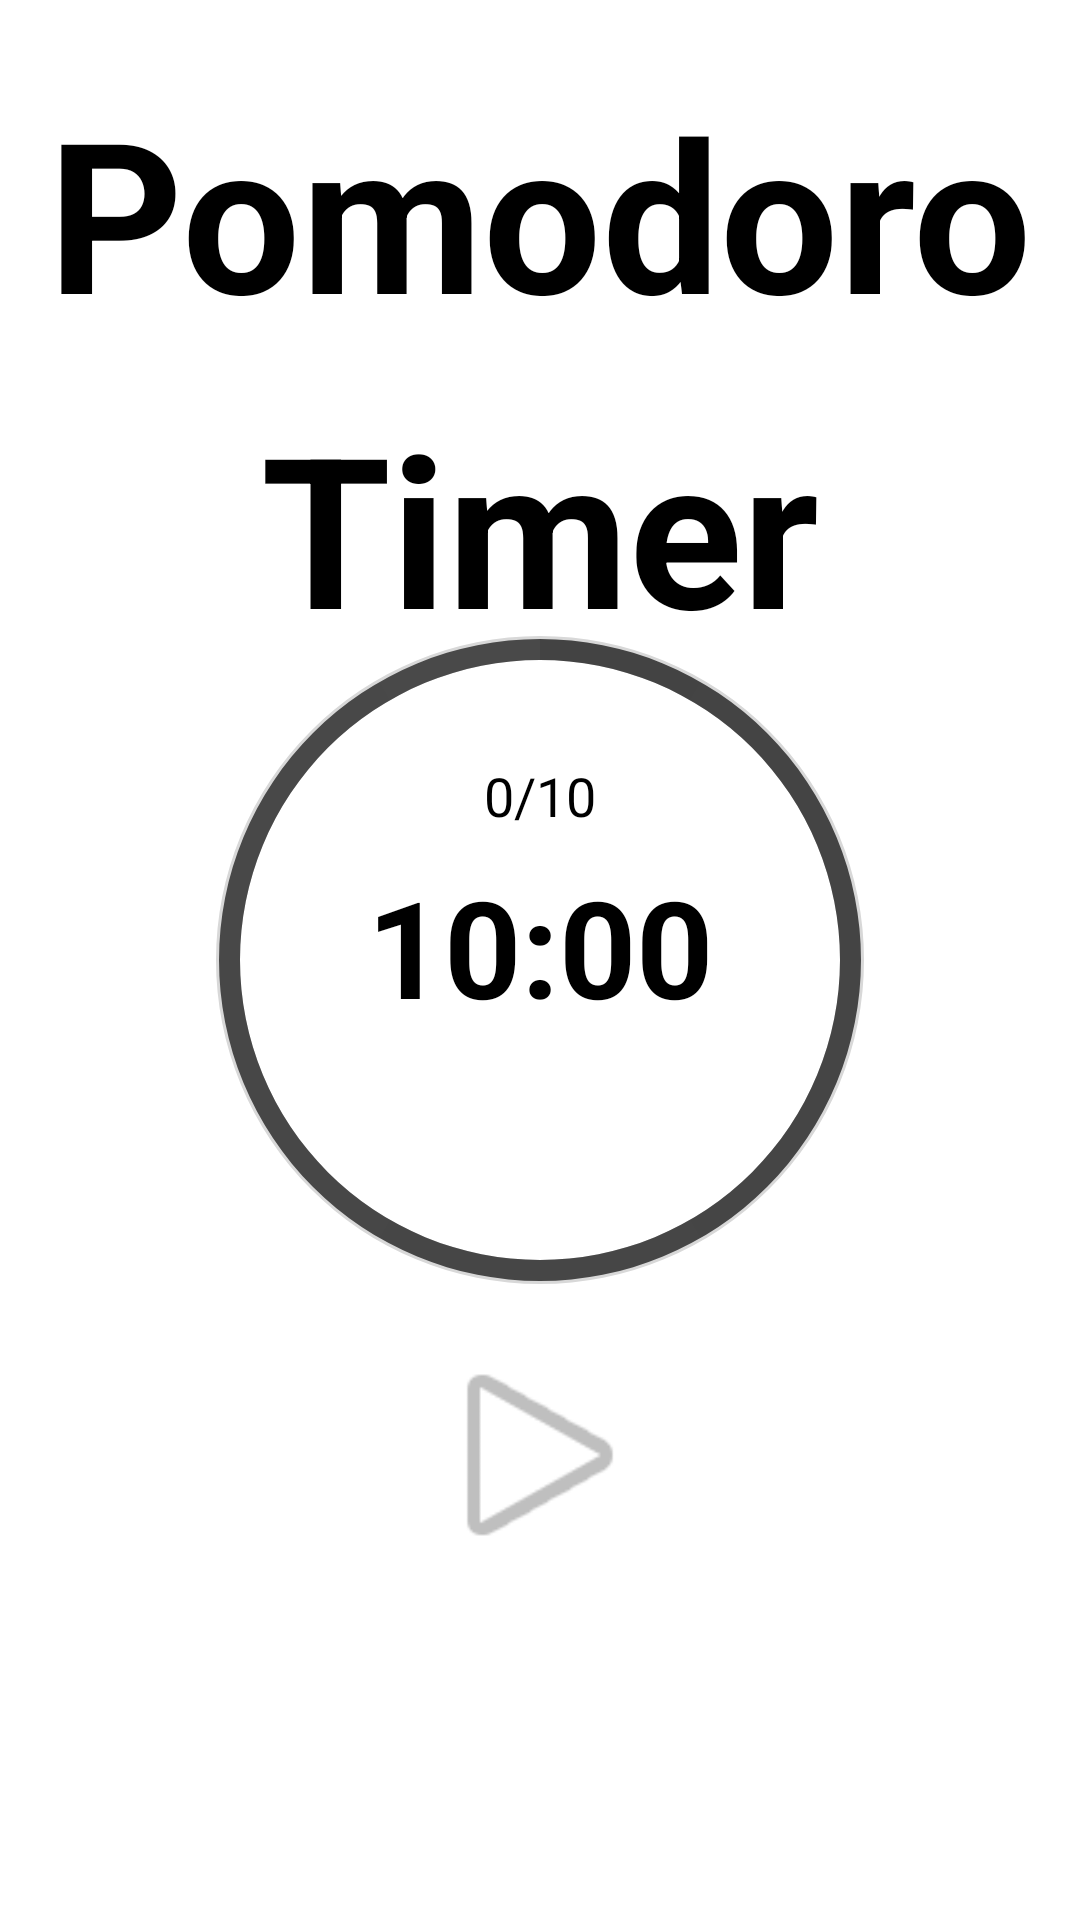

Point at icon controls on the screen. Image size 1080w x 1920h, points as (x,y).
play: (540,1455)
